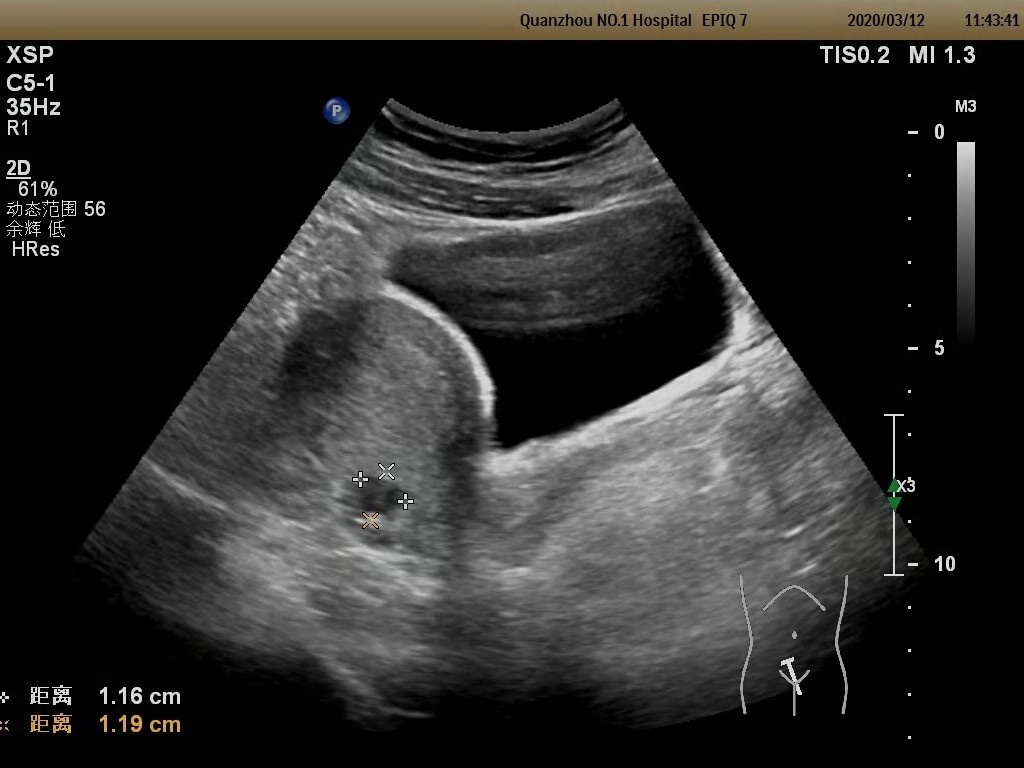肌瘤: (359, 484, 399, 514)
